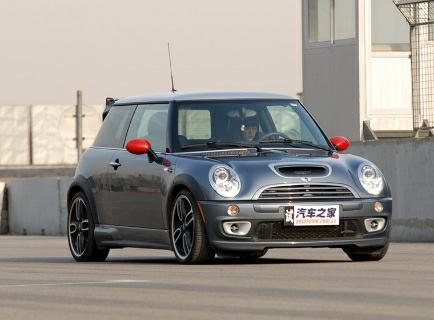MINI: (48, 72, 408, 272)
